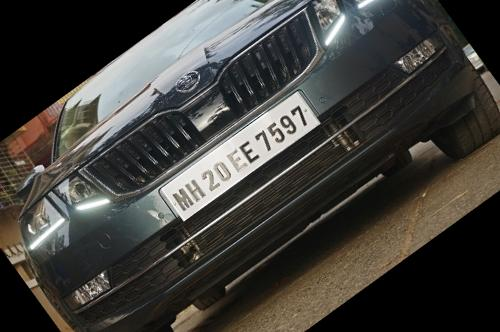plate: (133, 65, 348, 254)
